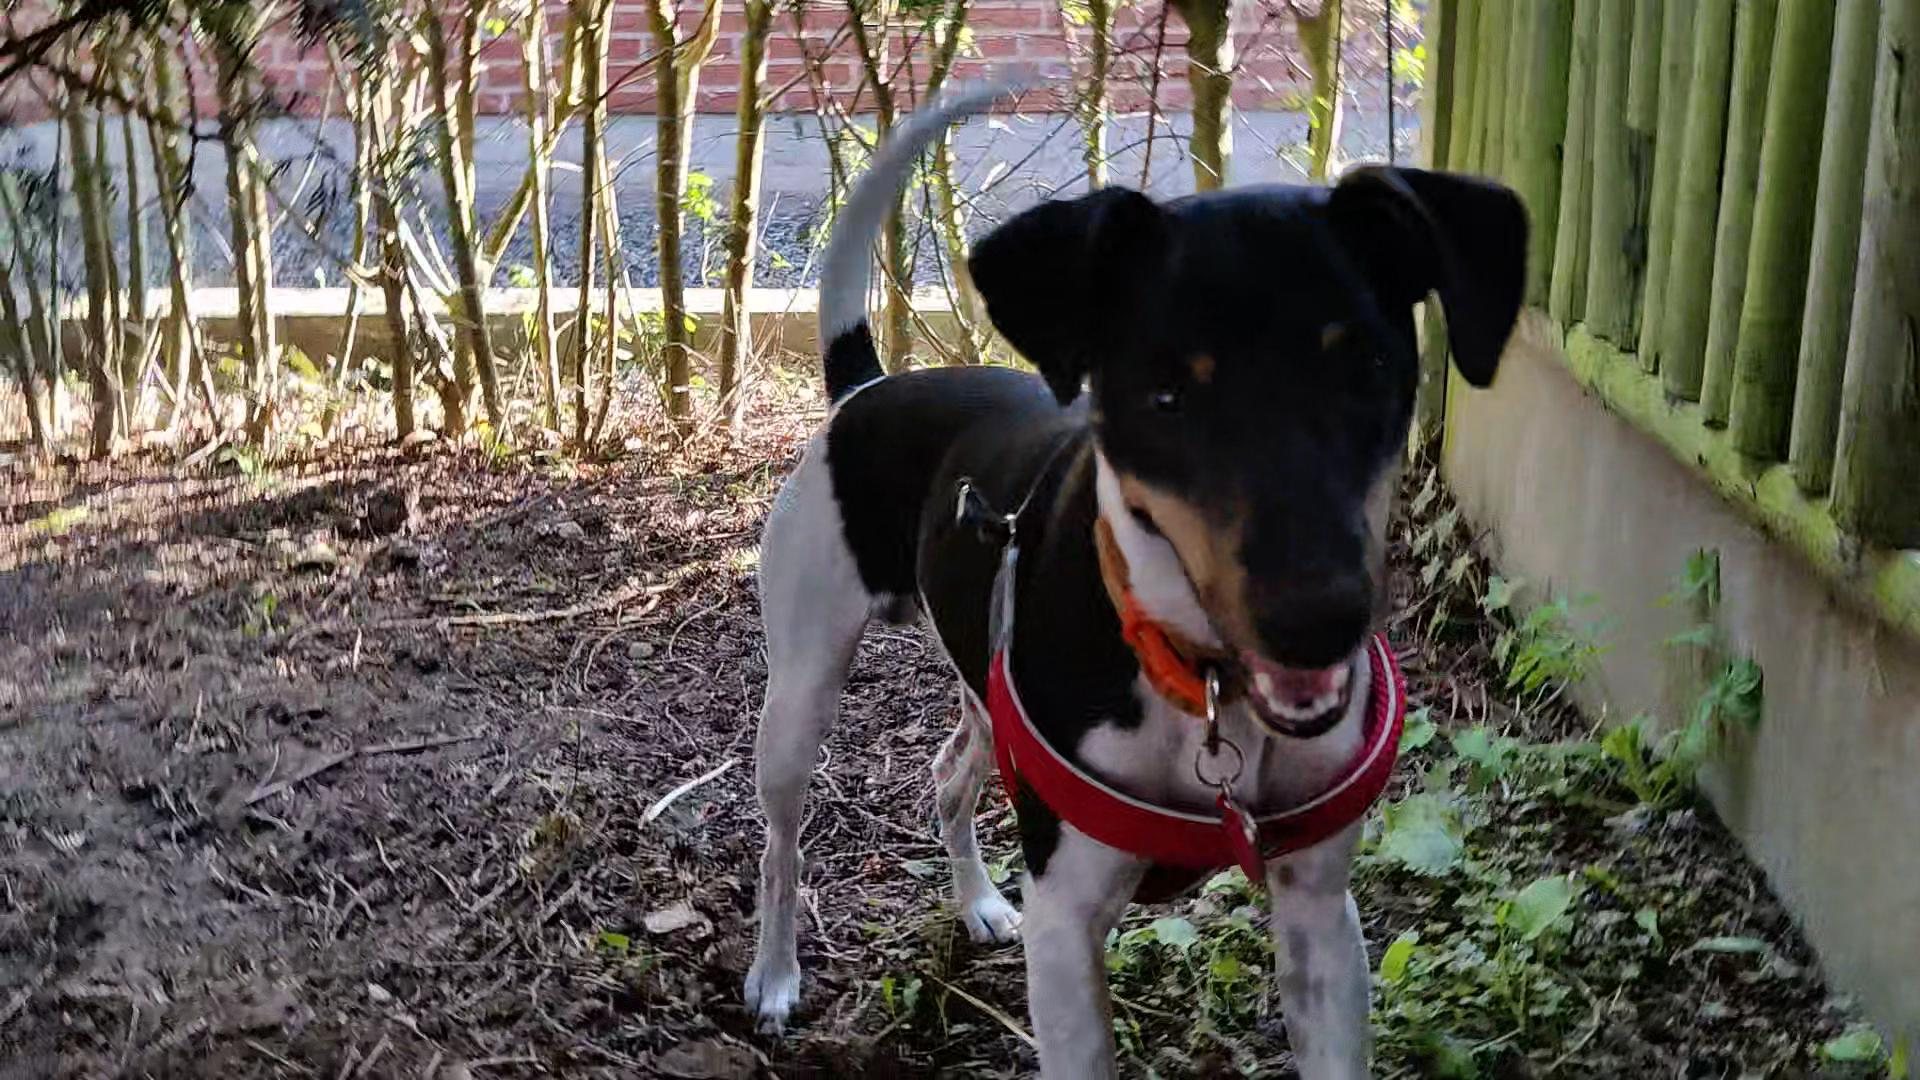Dog: (699, 46, 1567, 1079)
